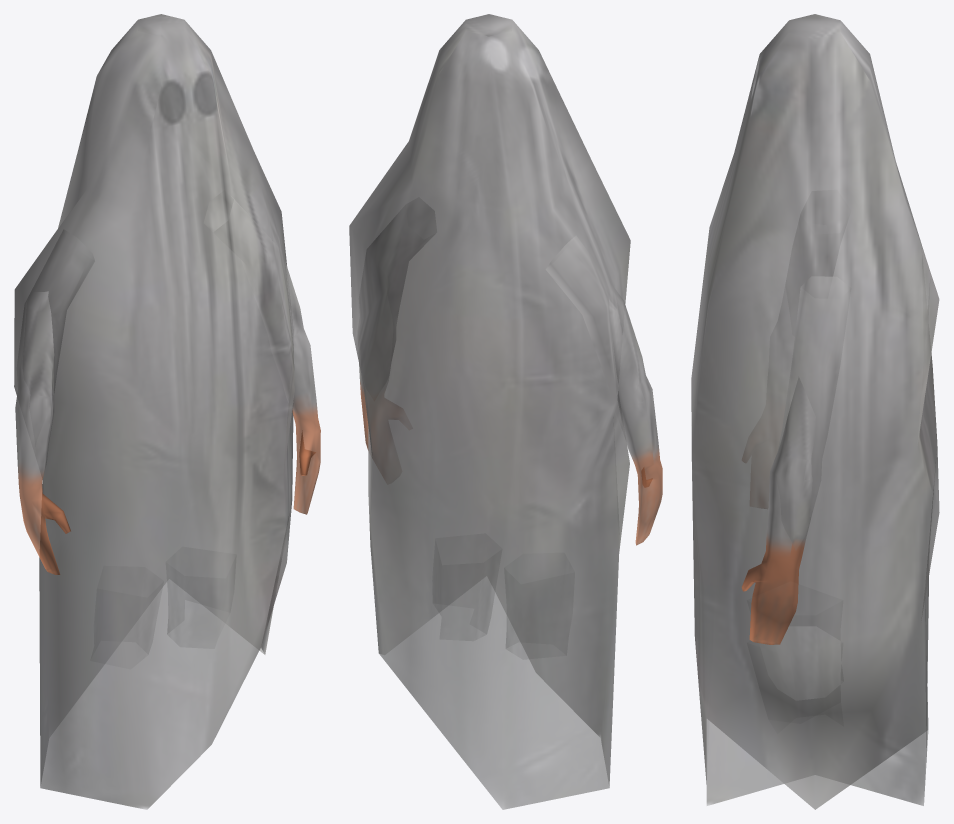
The model's file is ghost.glb.
The picture shows the model from 3 angles, left to right: view 1: azimuth 30°, elevation 25°; view 2: azimuth 150°, elevation 25°; view 3: azimuth 270°, elevation 25°; orthographic projection. The views are drawn at different scales.
Visible parts, largest first — view 1: Character_Ghost.001; view 2: Character_Ghost.001; view 3: Character_Ghost.001.
Part boxes in pixels (x1=…): Character_Ghost.001: x1=14, y1=14, x2=320, y2=809; Character_Ghost.001: x1=349, y1=14, x2=662, y2=809; Character_Ghost.001: x1=691, y1=14, x2=939, y2=809.
Size of the model in its own units: 0.7183 by 1.71 by 0.4723.
Materials: 1 (1 with a texture image).
